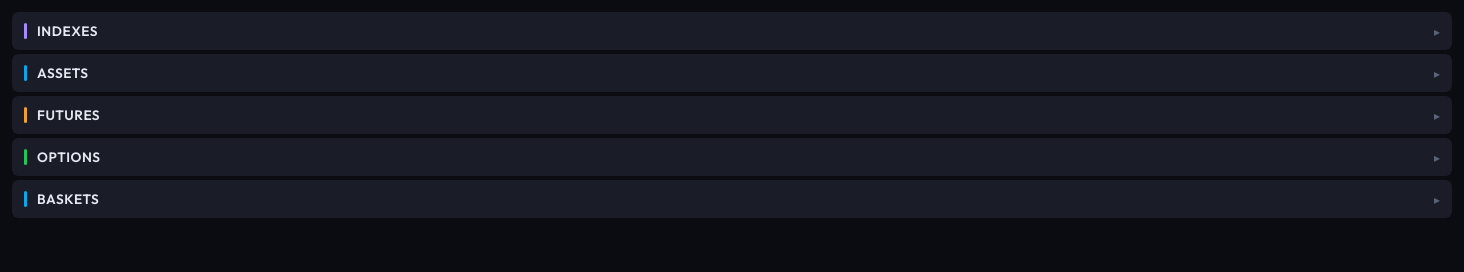
Greeks badge — stored_greeks_ratio variants › no badge when ratio < 0.1 and has_computed_greeks=false (e.g. OPT_ETH)
Click the button "Options ▸" at (69, 157), box x1=12 y1=138 x2=1452 y2=176
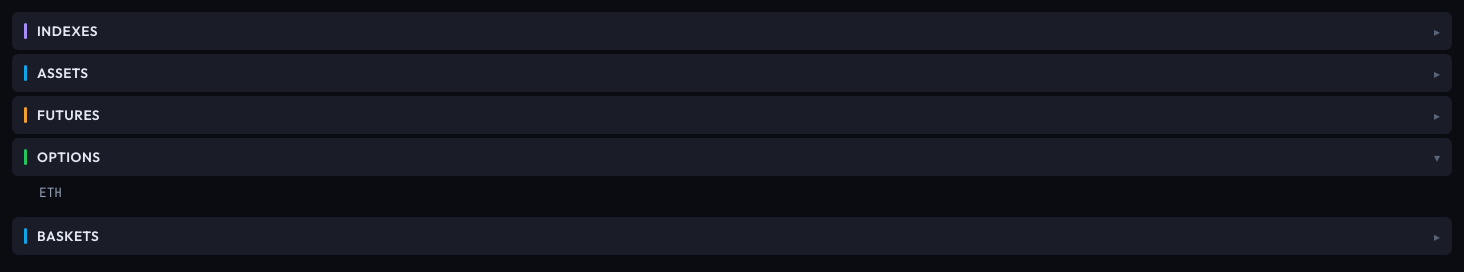
expect the text "ETH" is shown: met, box x1=39 y1=184 x2=62 y2=201
